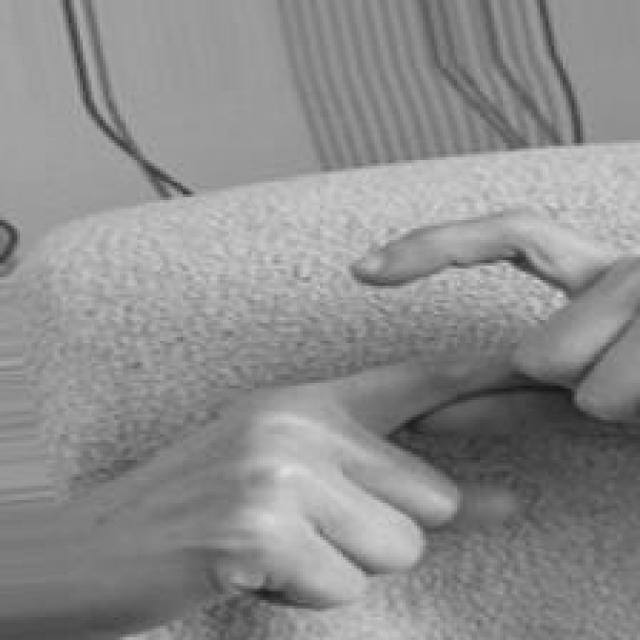S: (143, 203, 640, 640)
